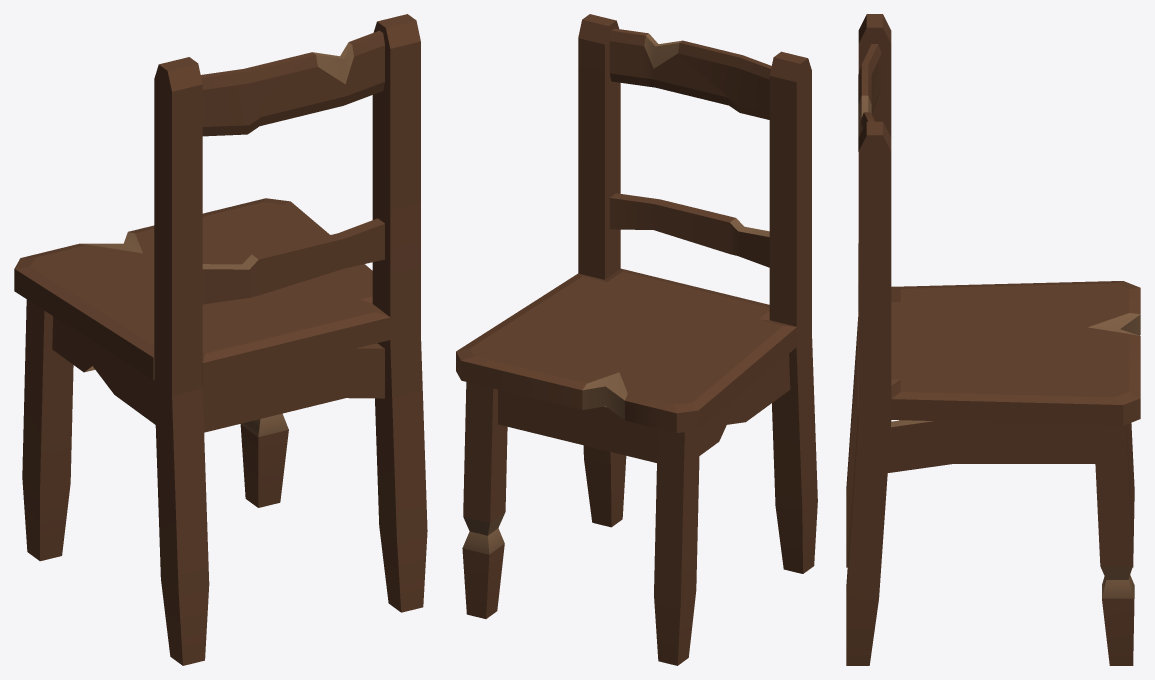
File: Chair.fbx
3 views of the same model, side by side, from view 1: azimuth 30°, elevation 25°; view 2: azimuth 150°, elevation 25°; view 3: azimuth 270°, elevation 25° (orthographic). The views are drawn at different scales.
Parts seen in each view (by area): view 1: pCube45, pCube46, pCube44, pCube43; view 2: pCube45, pCube46, pCube44, pCube47, pCube43; view 3: pCube46, pCube45, pCube47, pCube43, pCube44.
Boxes of the visible parts, <box> form: pCube45: <box>154,14,427,612</box>; pCube46: <box>14,198,390,432</box>; pCube44: <box>22,299,209,665</box>; pCube43: <box>240,413,288,507</box>; pCube45: <box>578,14,811,527</box>; pCube46: <box>456,268,797,432</box>; pCube44: <box>654,338,817,665</box>; pCube47: <box>463,382,657,535</box>; pCube43: <box>462,528,504,618</box>; pCube46: <box>858,281,1140,425</box>; pCube45: <box>846,14,891,665</box>; pCube47: <box>887,420,1132,579</box>; pCube43: <box>1102,575,1134,665</box>; pCube44: <box>846,317,1134,567</box>.
Bounding box in the file's own units: 0.5471 × 1.11 × 0.548.
